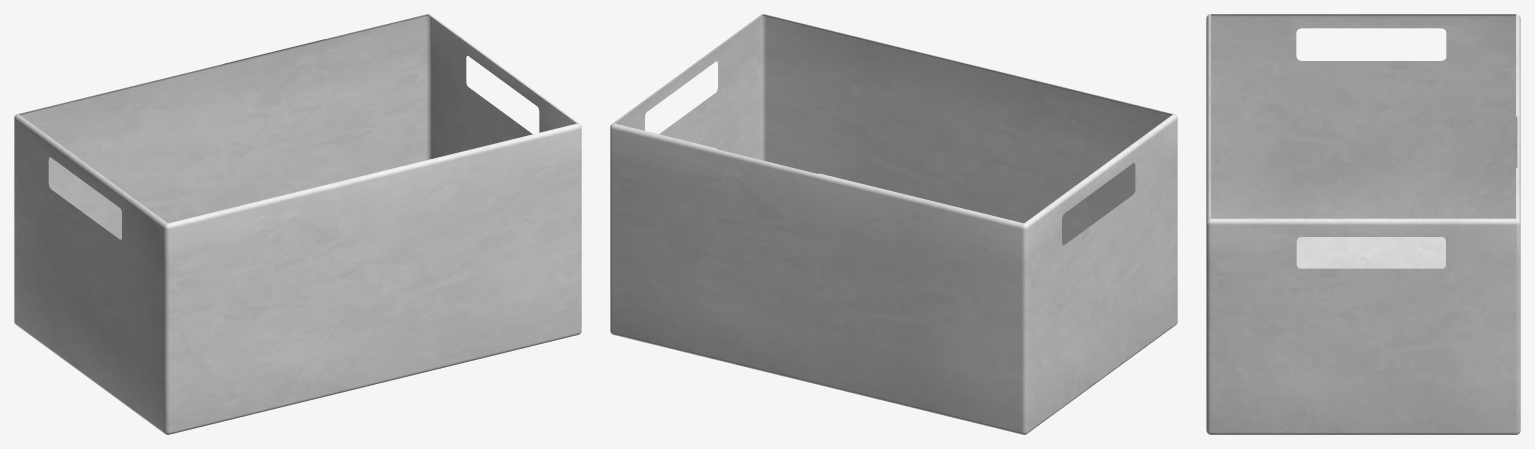
File: caja.fbx
3 views of the same model, side by side, from view 1: azimuth 30°, elevation 25°; view 2: azimuth 150°, elevation 25°; view 3: azimuth 270°, elevation 25° (orthographic). The views are drawn at different scales.
Visible parts, largest first — view 1: Boolean; view 2: Boolean; view 3: Boolean.
Part boxes in pixels (bbox=[...]): Boolean: bbox=[14, 14, 581, 434]; Boolean: bbox=[610, 14, 1177, 434]; Boolean: bbox=[1206, 14, 1520, 434].
Size of the model in its own units: 314 by 152 by 200.
Materials: 1 (1 with a texture image).
